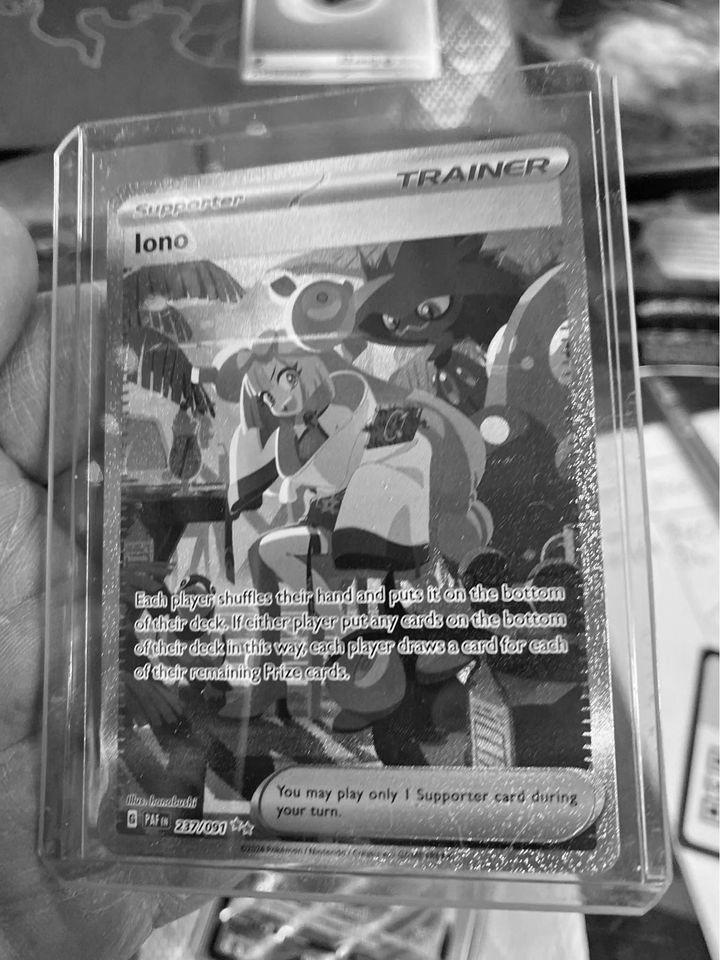card: (96, 128, 622, 878)
